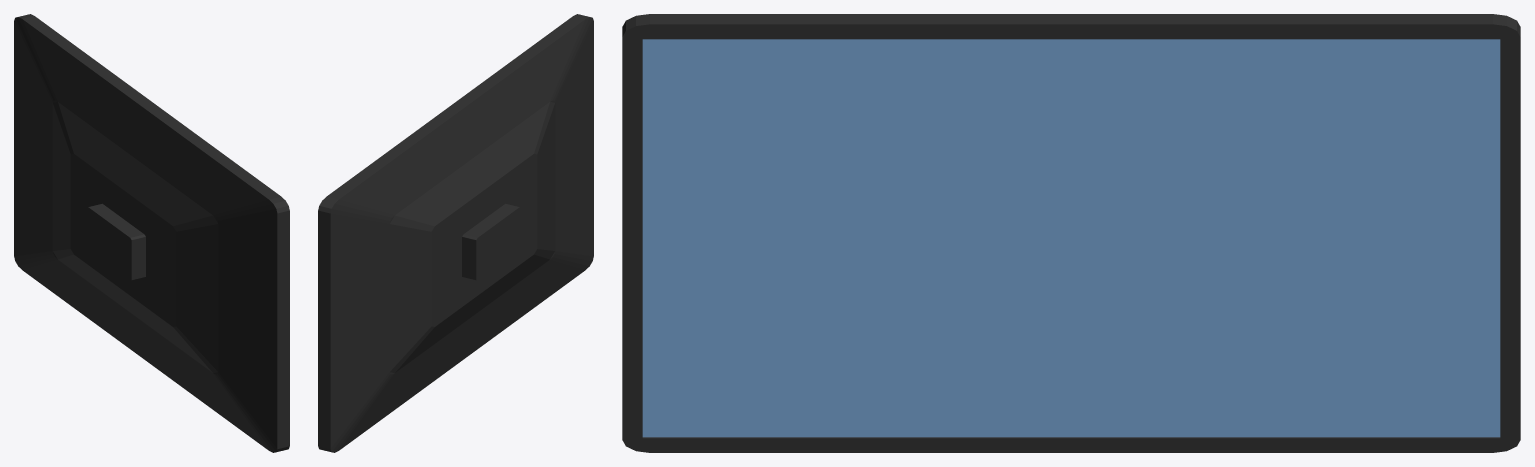
Rendered from Monitor.glb.
3 renders of one model, left to right at view 1: azimuth 30°, elevation 25°; view 2: azimuth 150°, elevation 25°; view 3: azimuth 270°, elevation 25°, orthographic. The views are drawn at different scales.
Parts seen in each view (by area): view 1: Cube; view 2: Cube; view 3: Cube.
Boxes of the visible parts, x1,y1,x2,y2 form: Cube: (14, 14, 289, 452); Cube: (318, 14, 593, 452); Cube: (622, 14, 1520, 452).
Size of the model in its own units: 0.2144 by 1.05 by 2.
